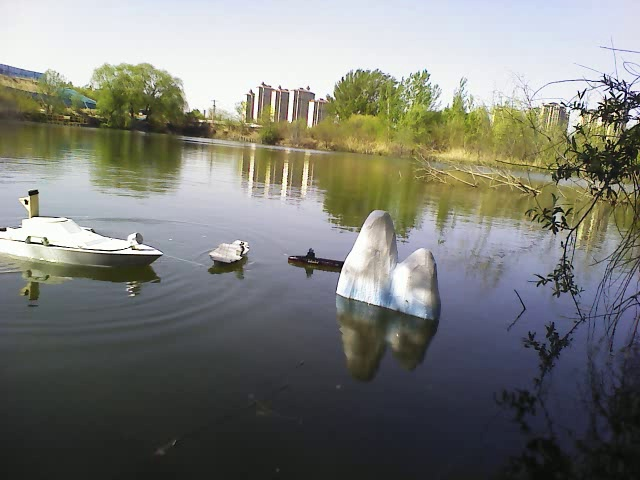aircraft_carrier: (208, 226, 250, 265)
boat: (2, 210, 163, 278)
iceberg: (336, 208, 446, 321)
submarine: (288, 243, 344, 270)
